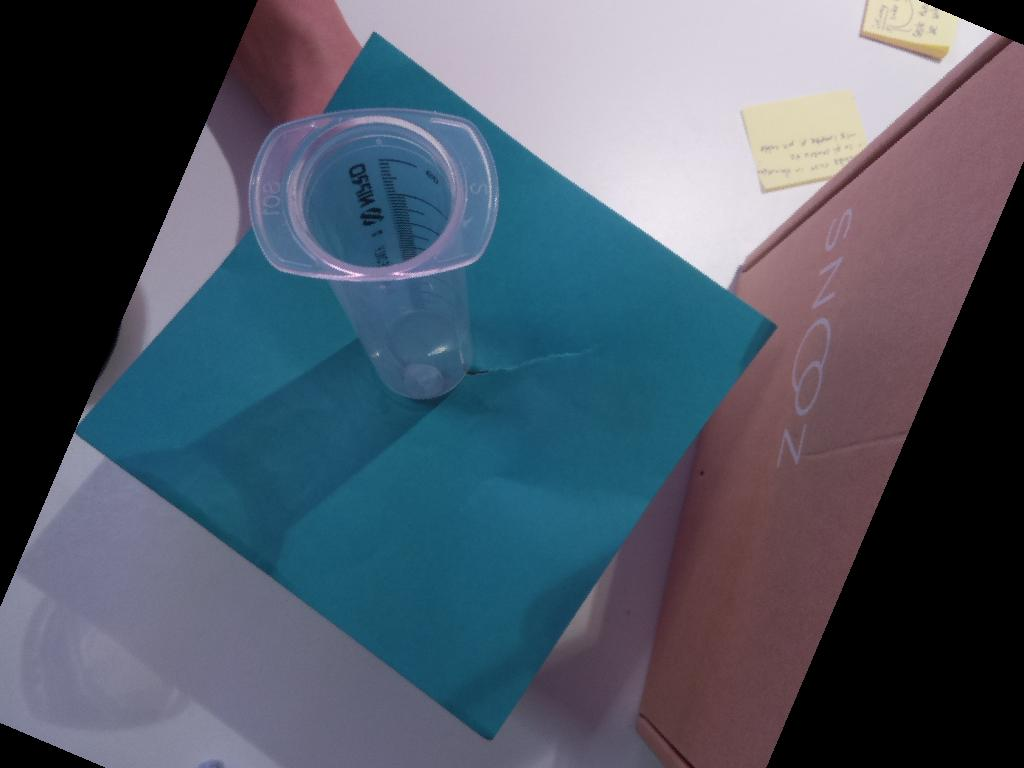clean: (246, 107, 501, 285)
